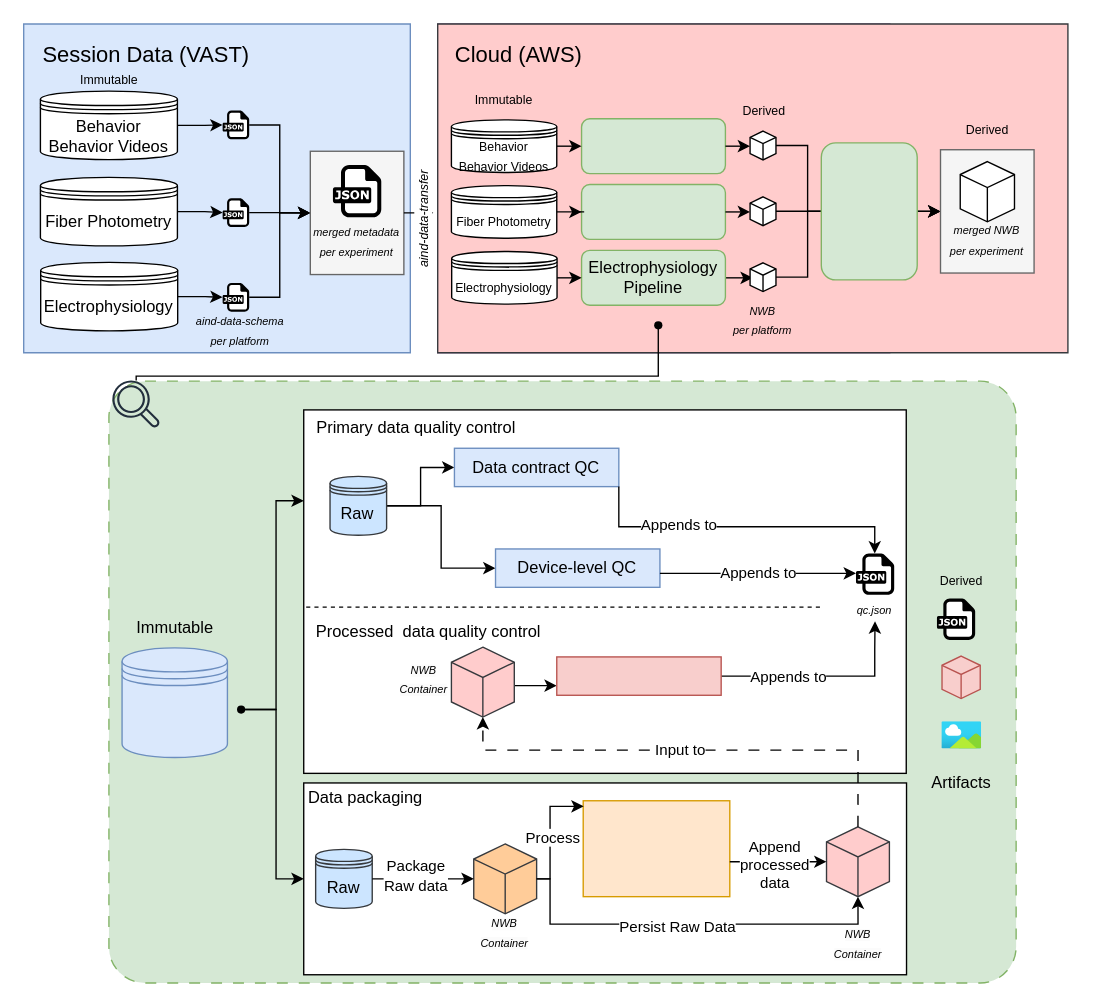
This 1093x1007 diagram has some shape labels left out. The centre of each missing label's shape, as x and y in pixels:
"Behavior Pipeline" belongs at [652,145].
"Experiment Aggregation Pipeline" belongs at [868,211].
"Fiber Photometry Pipeline" belongs at [652,211].
"Platform Data" belongs at [174,702].
"Processed data (e.g. filtering, trial parsing, etc...)" belongs at [656,848].
"Task metrics QC" belongs at [638,675].
